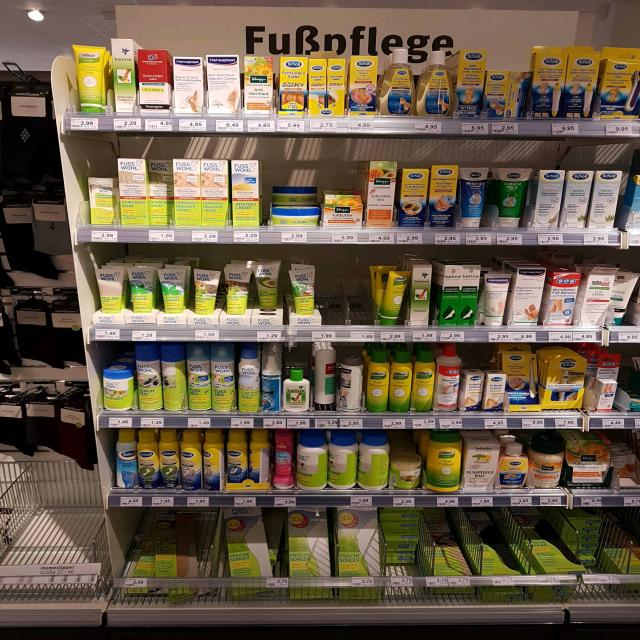void: (0, 484, 34, 626), (37, 484, 67, 624), (70, 483, 98, 624), (320, 245, 347, 343), (198, 509, 220, 628), (345, 243, 371, 341)
